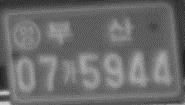0: (14, 55, 38, 94)
4: (127, 50, 150, 88), (152, 49, 173, 87)
5: (79, 53, 101, 90)
7: (37, 53, 60, 94)
9: (103, 52, 124, 89)
가: (60, 58, 79, 85)
부산_D: (47, 17, 135, 45)
영: (13, 19, 42, 51)
